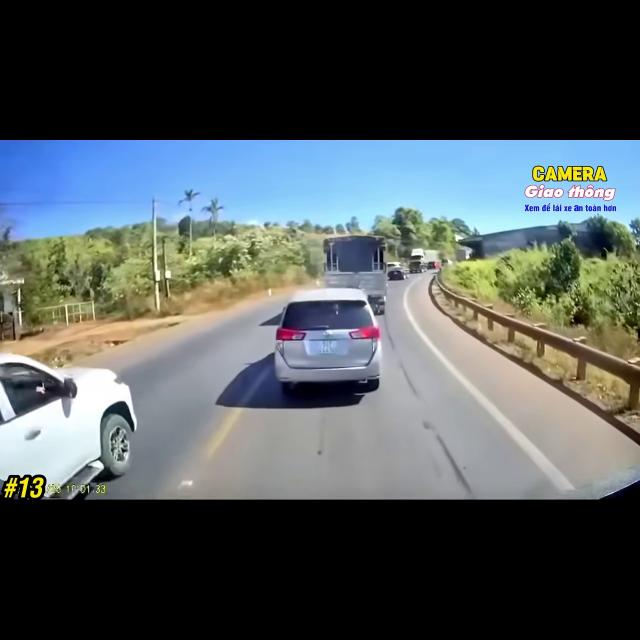car: (0, 353, 136, 498), (274, 288, 382, 394), (388, 266, 407, 280), (409, 261, 422, 273), (426, 261, 439, 269)
truck: (0, 353, 137, 498), (323, 235, 387, 314), (409, 249, 438, 272), (409, 249, 425, 272), (423, 250, 439, 269)
